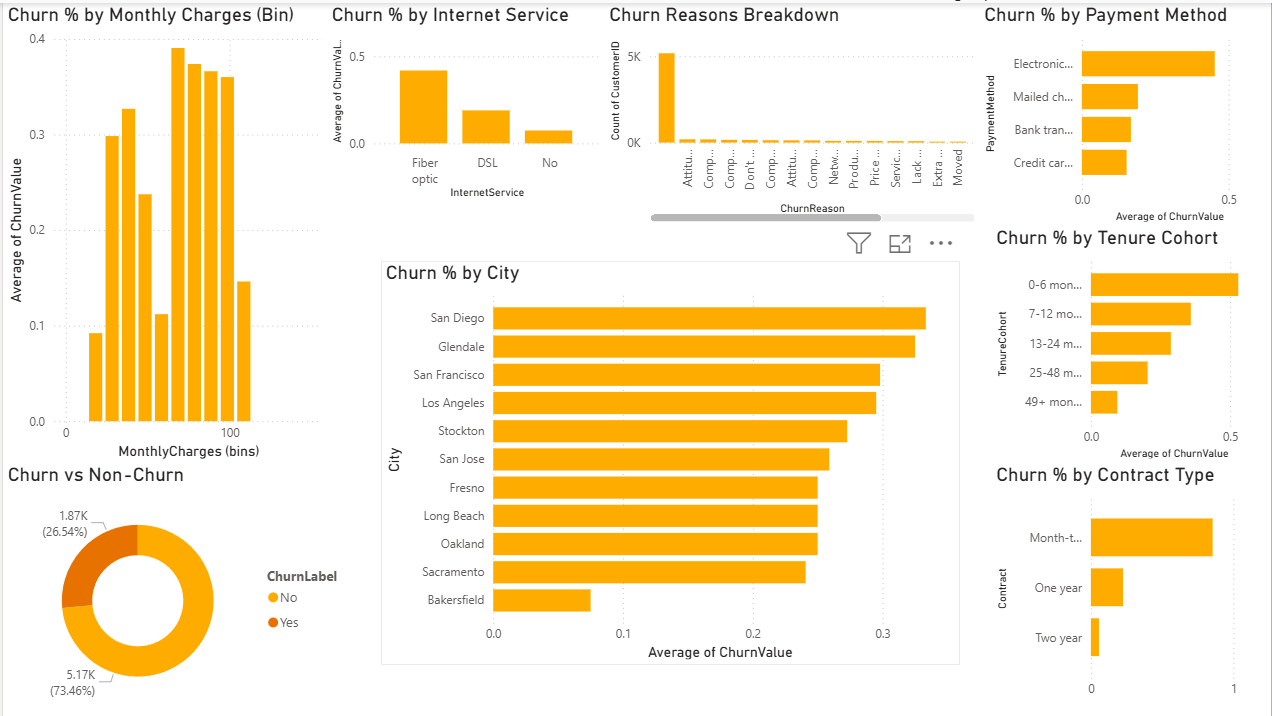

What the dashboard file says about the page in this screenshot:
{"tool":"powerbi","page":{"name":"Page 1","canvas":[1280,720],"ordinal":0},"visuals":[{"type":"columnChart","title":"Churn % by Contract Type","fields":{"Category":["telco_churn_clean.Contract"],"Y":["Avg(telco_churn_clean.ChurnValue)"]},"box":[0,0,256.5,255],"z":0},{"type":"clusteredColumnChart","title":"Churn % by Payment Method","fields":{"Category":["telco_churn_clean.PaymentMethod"],"Y":["Avg(telco_churn_clean.ChurnValue)"]},"box":[267.3,0,294.9,255],"z":1000},{"type":"clusteredColumnChart","title":"Churn % by Internet Service","fields":{"Category":["telco_churn_clean.InternetService"],"Y":["Avg(telco_churn_clean.ChurnValue)"]},"box":[843.3,0,290.3,255],"z":2000},{"type":"clusteredColumnChart","title":"Churn % by Tenure Cohort","fields":{"Category":["telco_churn_clean.TenureCohort"],"Y":["Avg(telco_churn_clean.ChurnValue)"]},"box":[562.2,0,281.1,255],"z":3000},{"type":"clusteredColumnChart","title":"Churn % by Monthly Charges (Binned)","fields":{"Category":["telco_churn_clean.MonthlyCharges (bins)"],"Y":["Avg(telco_churn_clean.ChurnValue)"]},"box":[267.3,255,264.2,465.4],"z":4000},{"type":"clusteredColumnChart","title":"Churn % by City","fields":{"Category":["telco_churn_clean.City"],"Y":["Avg(telco_churn_clean.ChurnValue)"]},"box":[531.5,255,344.1,465.4],"z":5000},{"type":"barChart","title":"Churn Reasons Breakdown","fields":{"Category":["telco_churn_clean.ChurnReason"],"Y":["CountNonNull(telco_churn_clean.CustomerID)"]},"box":[0,255,267.3,465.4],"z":6000},{"type":"donutChart","title":"Churn vs Non-Churn","fields":{"Category":["telco_churn_clean.ChurnLabel"],"Y":["CountNonNull(telco_churn_clean.ChurnLabel)"]},"box":[933.9,354.8,258,267.3],"z":6001}]}

Visuals, with their boxes in screenshot pixels (x1, y1, x2, y2), scaled from the page's 1280x720 canvas onto the 1272x716 screenshot:
"Churn % by Contract Type" columnChart: <box>0,0,255,254</box>
"Churn % by Payment Method" clusteredColumnChart: <box>266,0,559,254</box>
"Churn % by Internet Service" clusteredColumnChart: <box>838,0,1127,254</box>
"Churn % by Tenure Cohort" clusteredColumnChart: <box>559,0,838,254</box>
"Churn % by Monthly Charges (Binned)" clusteredColumnChart: <box>266,254,528,715</box>
"Churn % by City" clusteredColumnChart: <box>528,254,870,715</box>
"Churn Reasons Breakdown" barChart: <box>0,254,266,715</box>
"Churn vs Non-Churn" donutChart: <box>928,353,1184,619</box>
